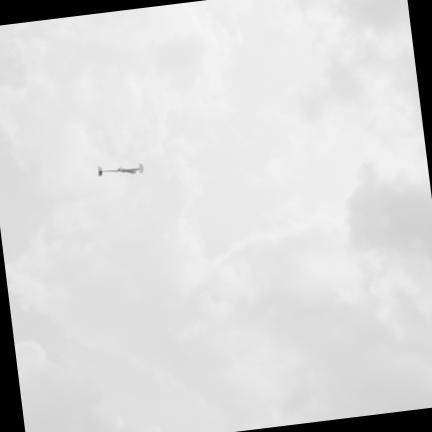Shahed: (98, 163, 142, 175)
